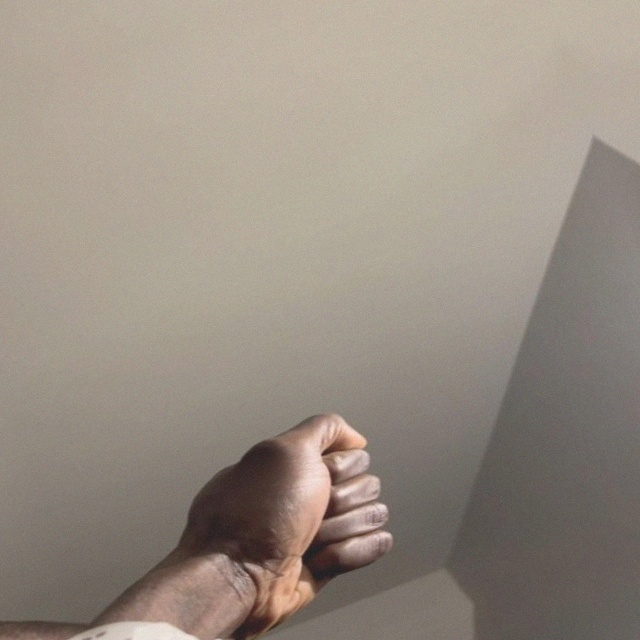Rock: (145, 397, 421, 640)
